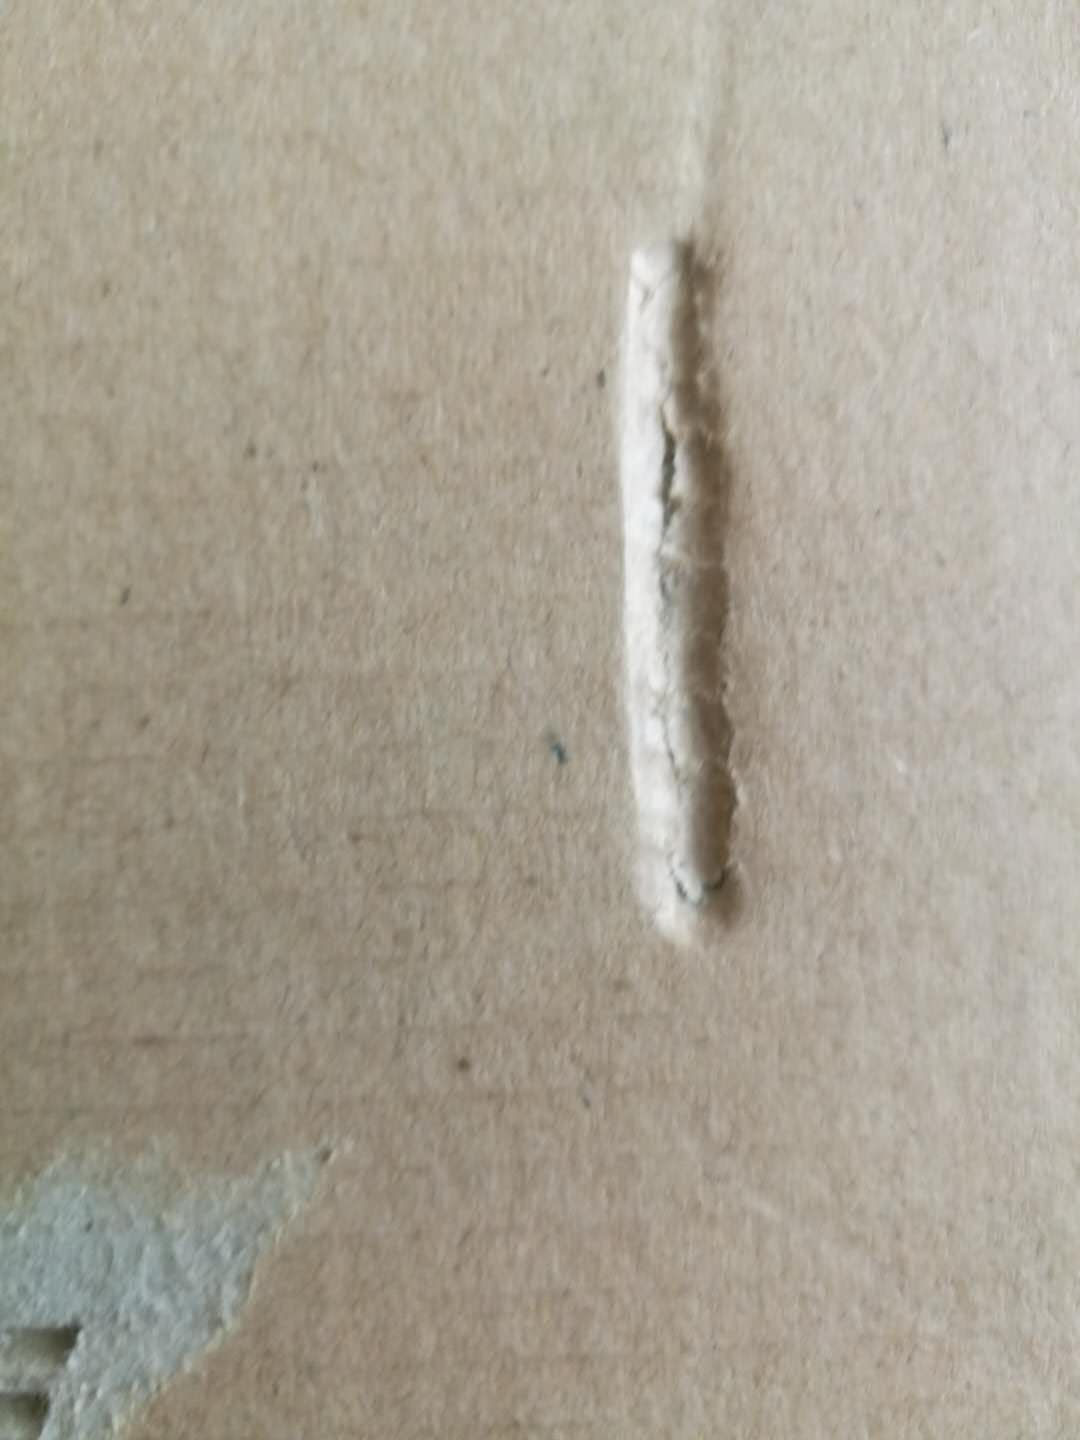defect: (542, 175, 819, 1020), (3, 1087, 411, 1438)
